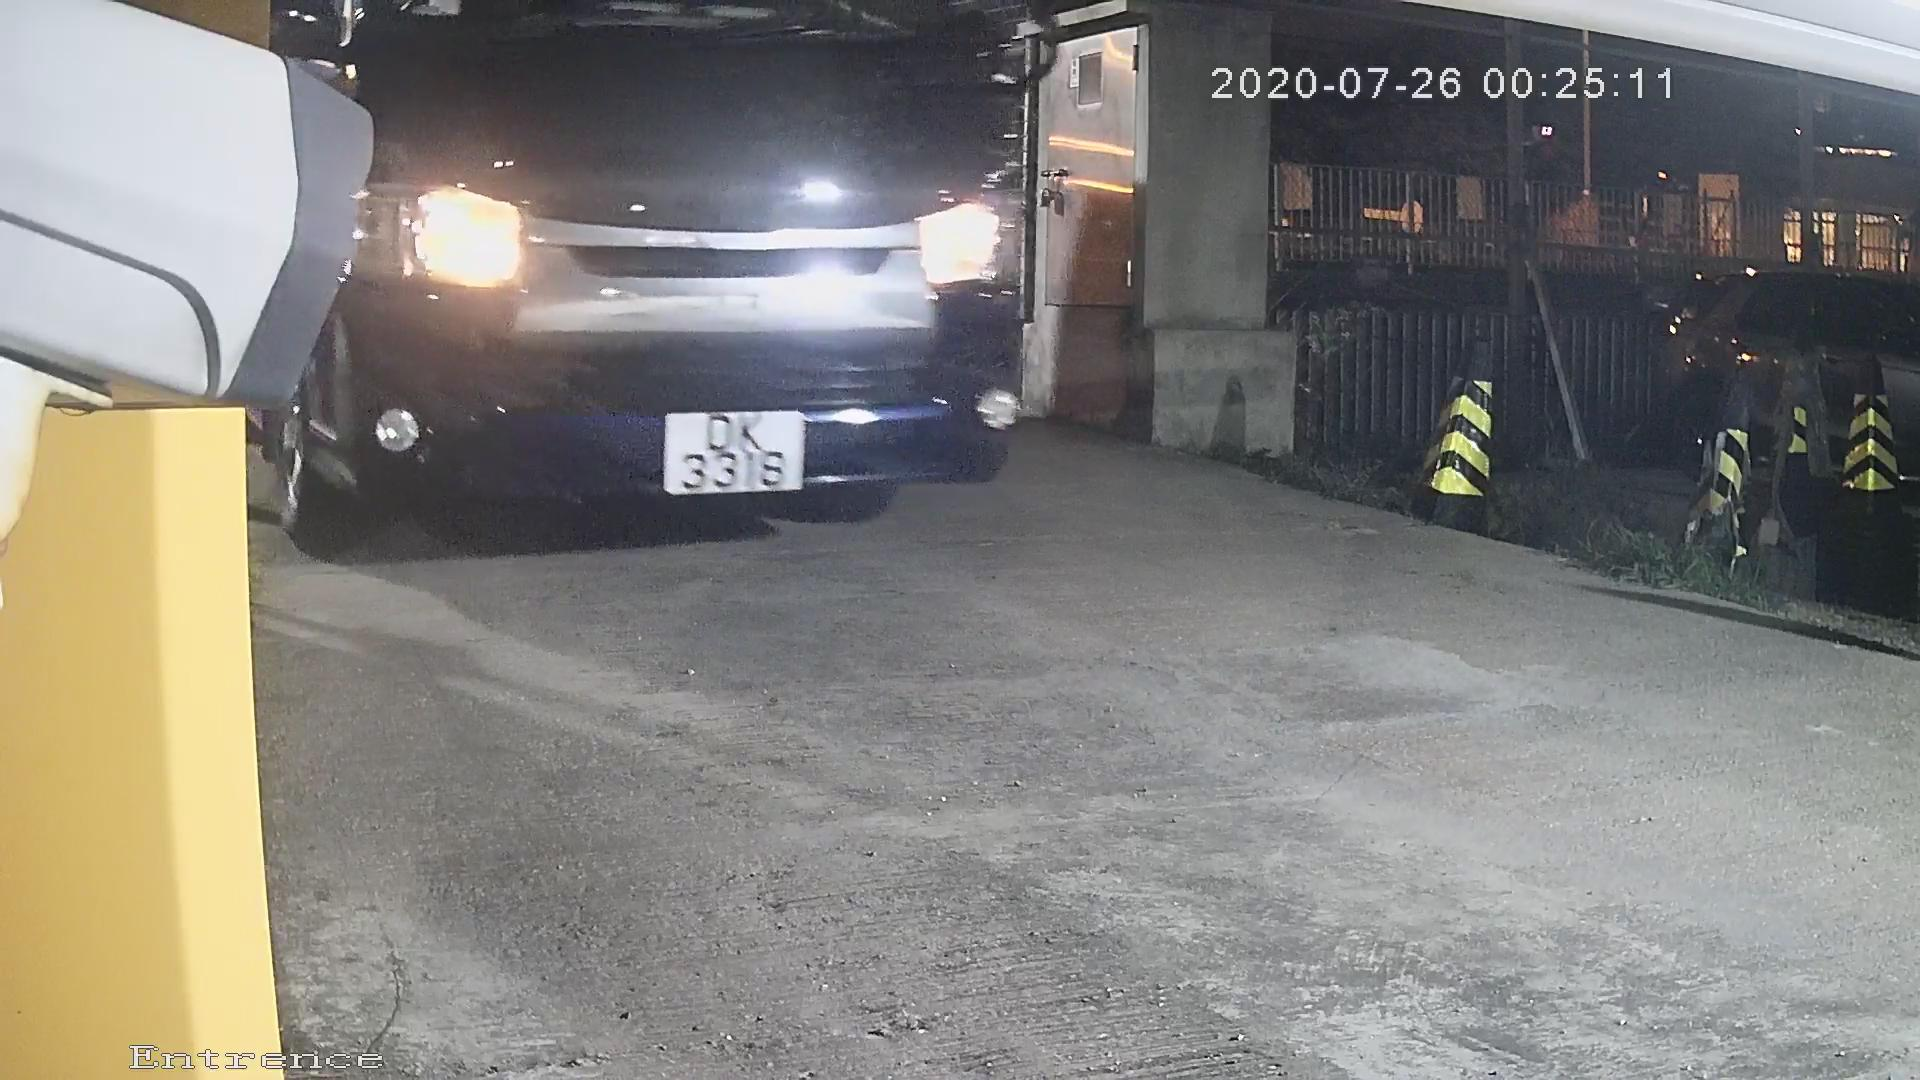License Plate: (652, 396, 815, 497)
